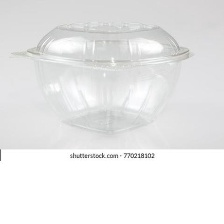plastic_box: (3, 13, 198, 139)
